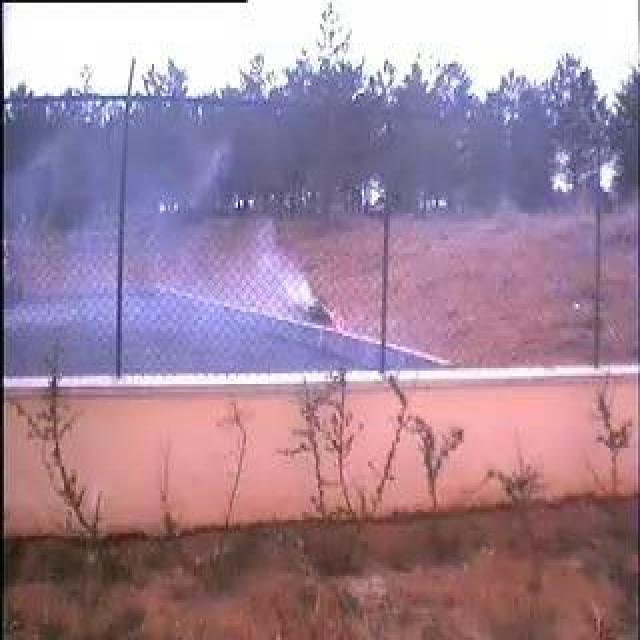Smoke: (76, 126, 320, 366)
